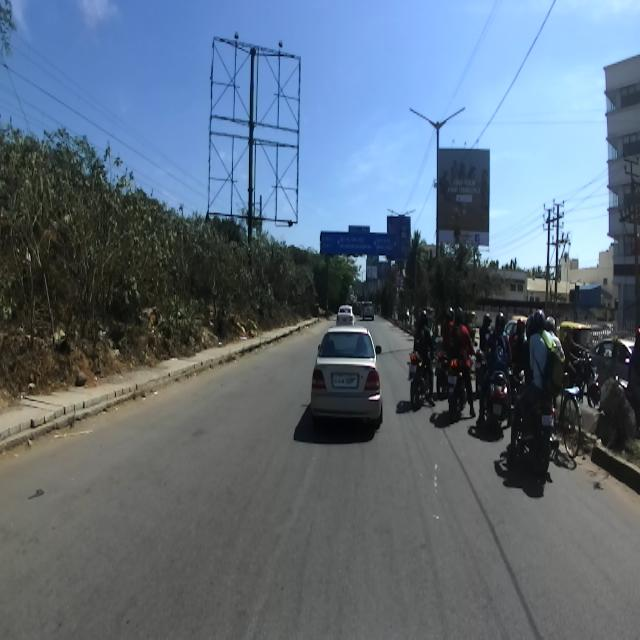car ahead at: (308, 326, 387, 430)
